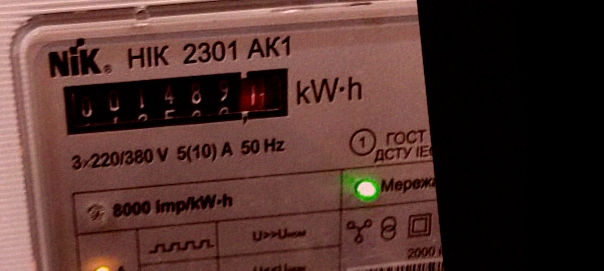0: (77, 93, 95, 119), (104, 86, 122, 112)
1: (133, 82, 149, 113), (245, 77, 260, 108)
4: (160, 80, 178, 108)
8: (185, 78, 205, 106)
9: (214, 77, 232, 103)
screen: (46, 52, 309, 153)
